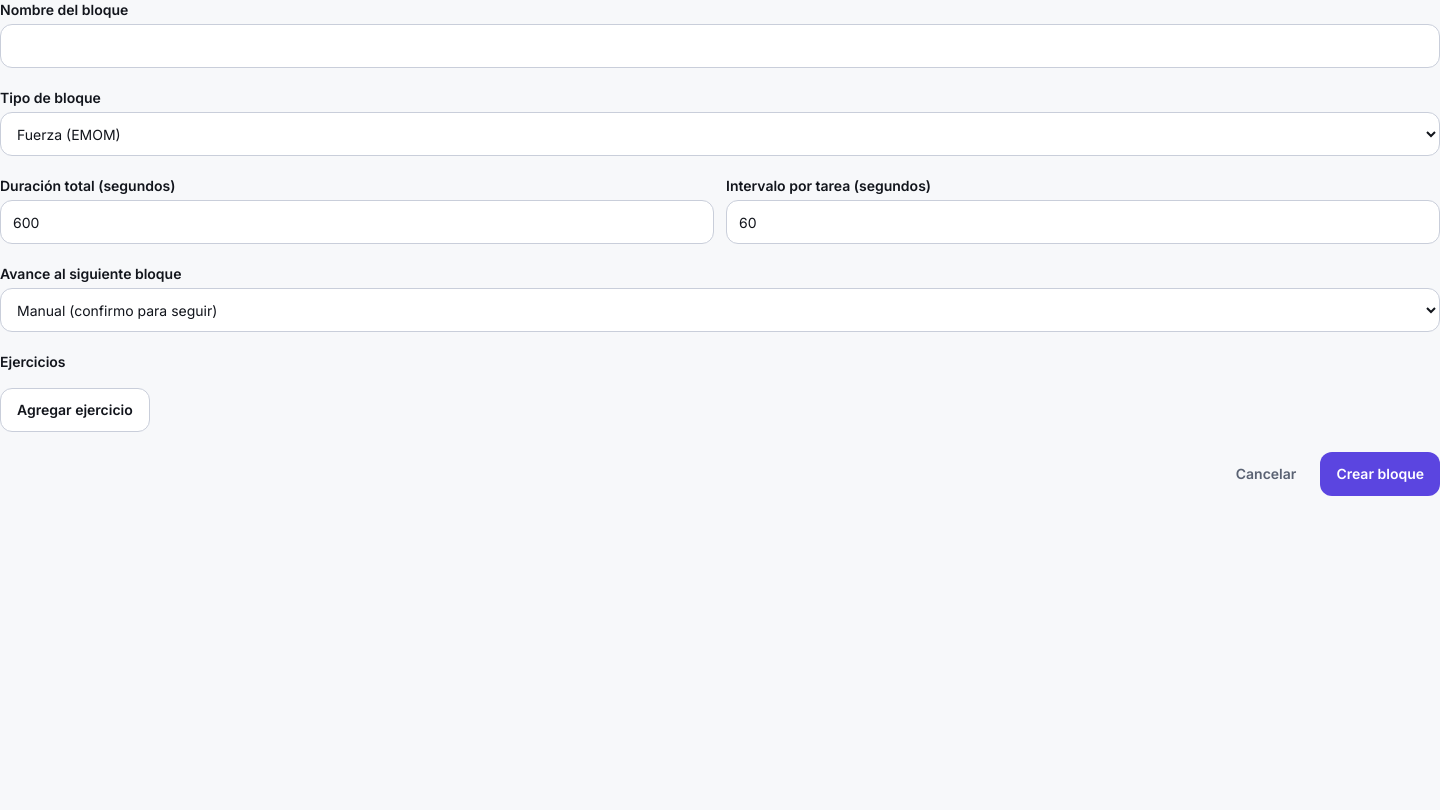
it: BlockForm › agrega un ejercicio del pool con el selector rápido, con su campo de reps
Click the button "Agregar ejercicio". click: (75, 410)
box: [0,388,150,432]
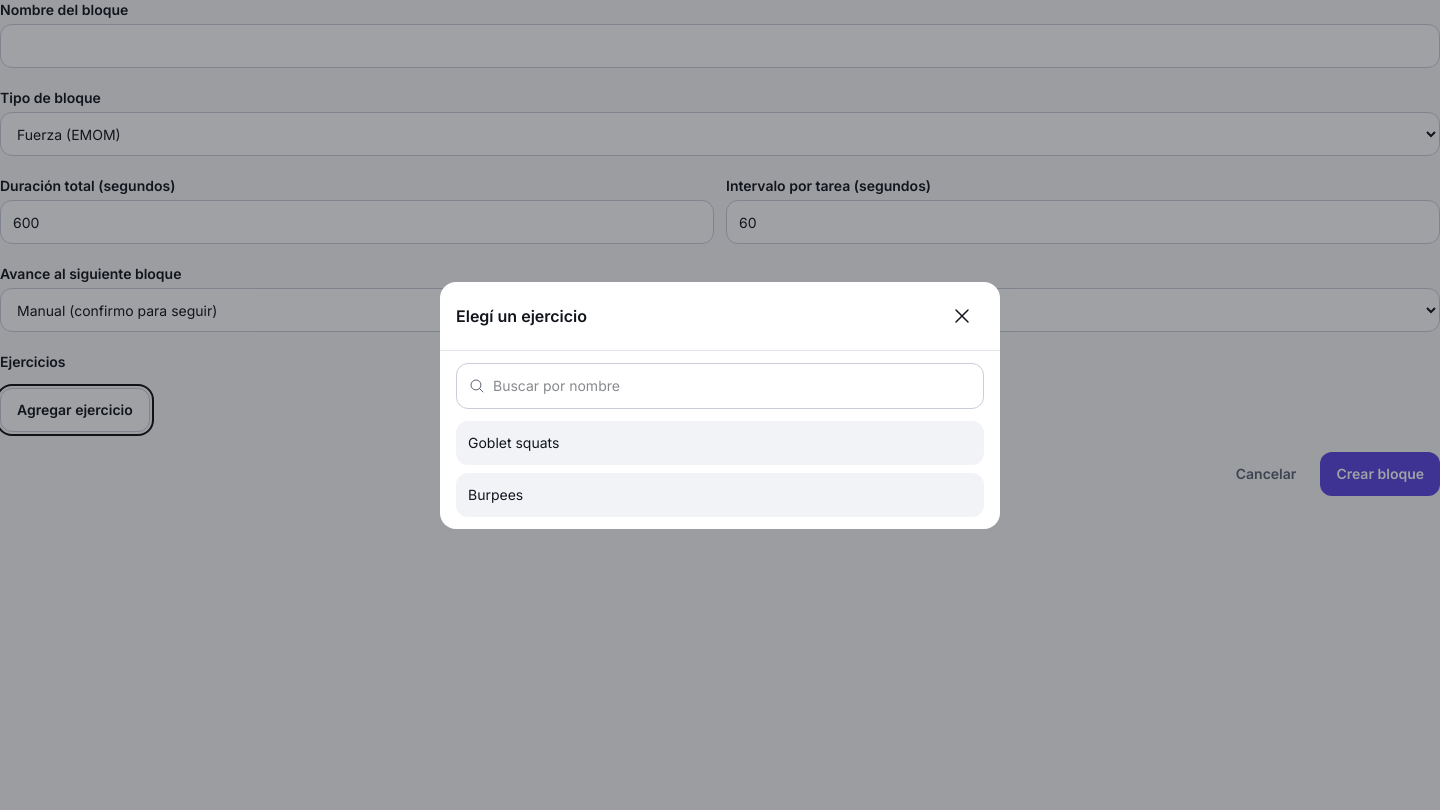
Click the button "Goblet squats". click: (514, 442)
box: [456,420,984,464]
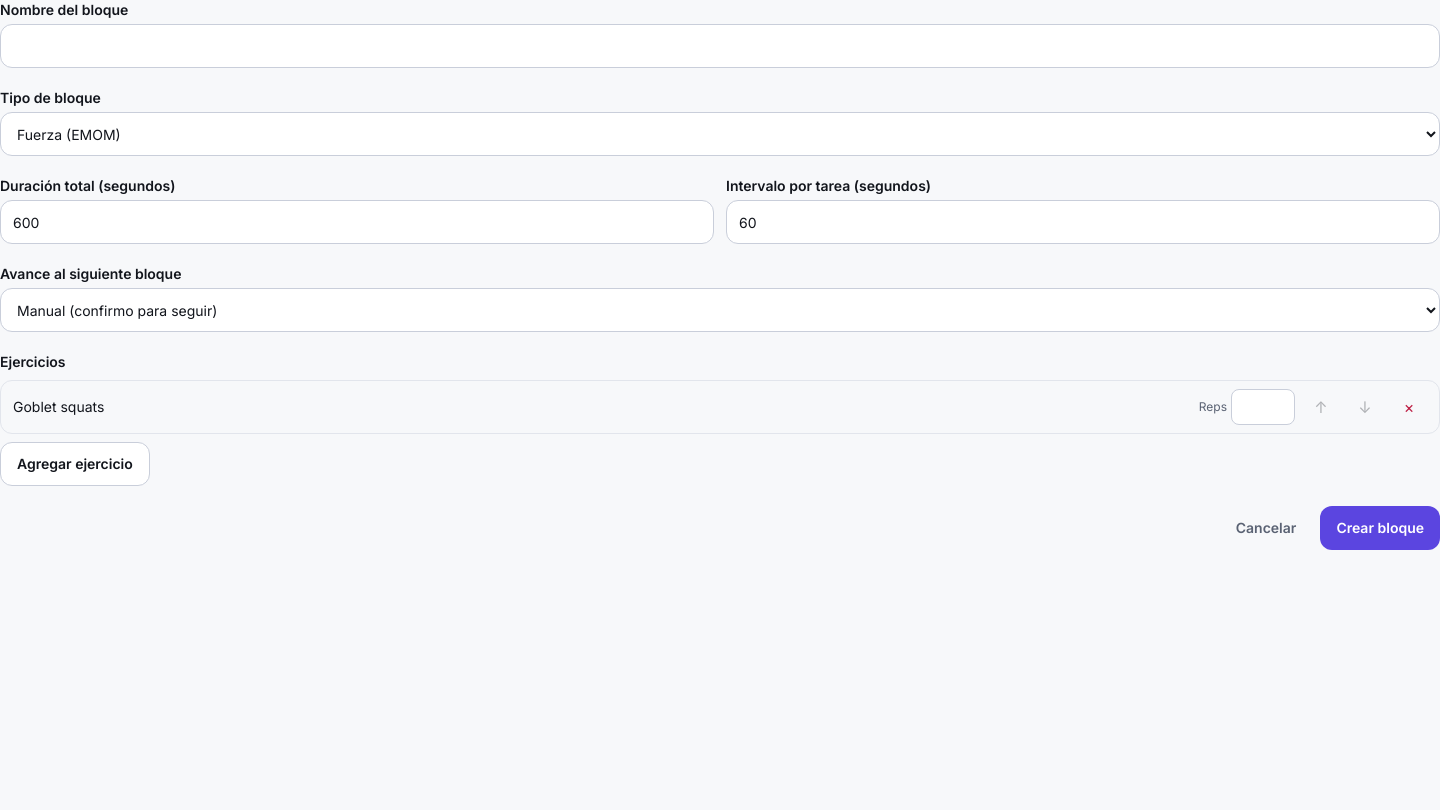
Check: the number field labelled "Reps" is shown, box [1231,389,1295,425]
